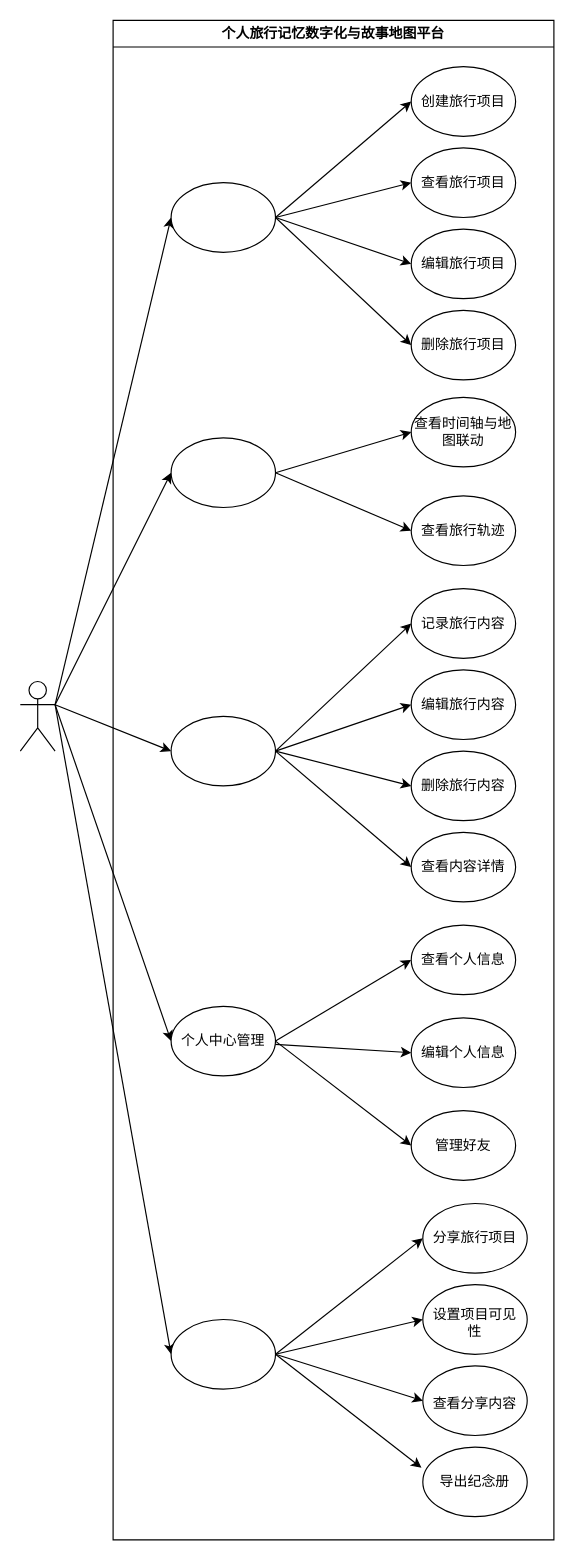
Some shapes in this 574 by 1560 pixel diagram are drawn without their labels. The shapes that lost their labels are listed below. From the top down, each one's centre as x and y in pixels, then its label:
At point (223, 217): "旅行项目管理".
At point (223, 472): "时间轴与地图展示".
At point (37, 715): "用户".
At point (223, 750): "内容记录管理".
At point (223, 1353): "分享与隐私管理".
